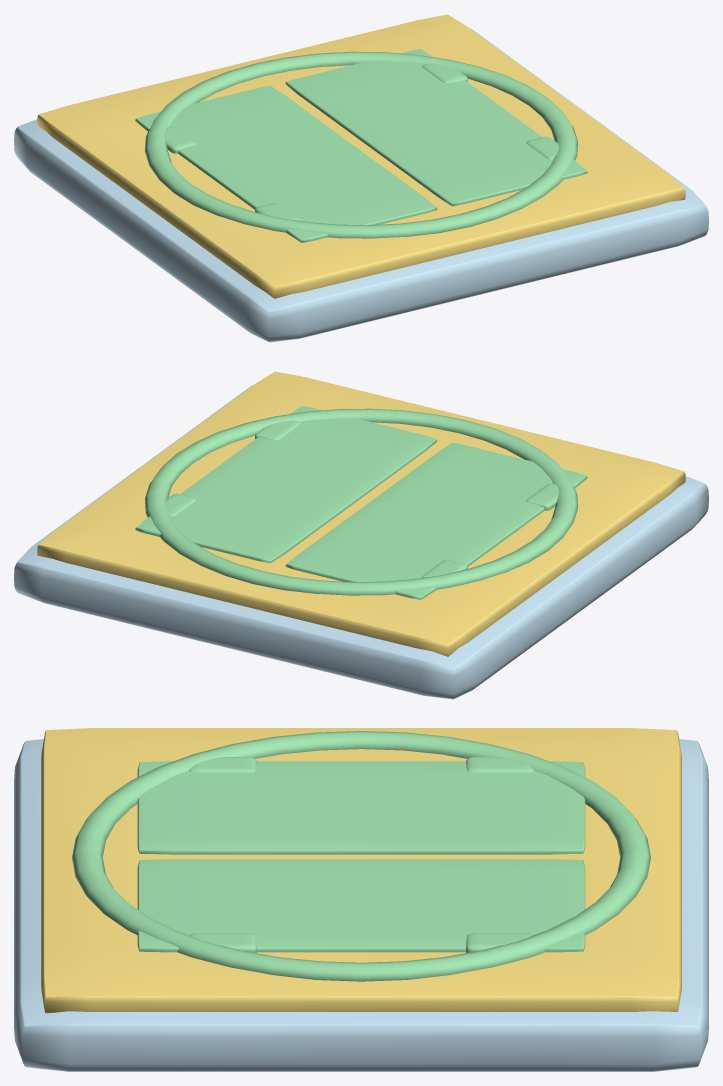
File: DiceDashTileTrap.glb
3 views of the same model, one above another, from view 1: azimuth 30°, elevation 25°; view 2: azimuth 150°, elevation 25°; view 3: azimuth 270°, elevation 25° (orthographic). The views are drawn at different scales.
Visible parts, largest first — view 1: Icon, Top, Base; view 2: Icon, Top, Base; view 3: Icon, Top, Base.
Part boxes in pixels (<box>): Icon: <box>135,49,587,242</box>; Top: <box>37,14,685,298</box>; Base: <box>14,28,708,342</box>; Icon: <box>135,406,587,599</box>; Top: <box>37,371,685,656</box>; Base: <box>14,385,708,699</box>; Icon: <box>72,731,650,981</box>; Top: <box>41,728,681,1013</box>; Base: <box>14,739,708,1071</box>.
Size of the model in its own units: 9 by 1.24 by 9.
